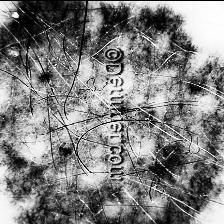Potentially Malignant Skin Tumors: (0, 0, 102, 224), (123, 0, 224, 224)
